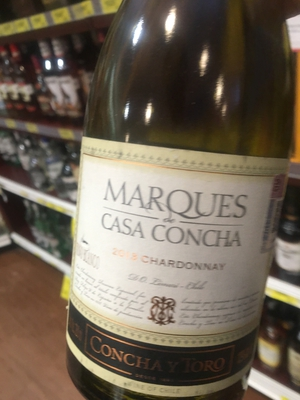marques de casa concha chardonnay: (62, 26, 291, 400)
